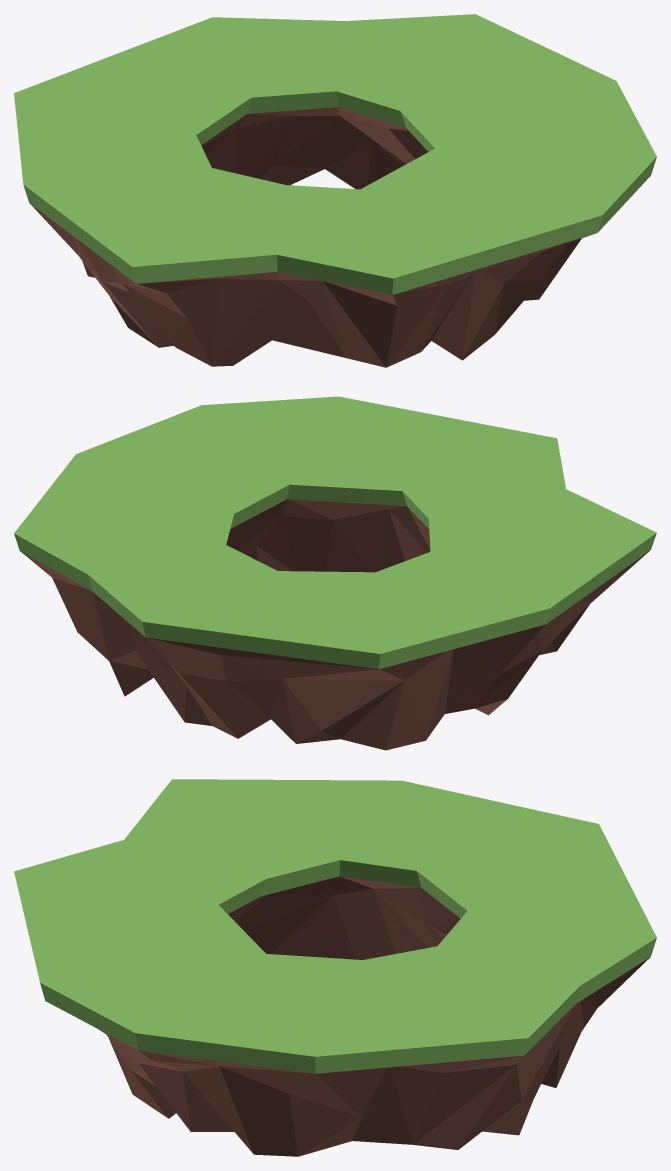
The model's file is Island7_tex.fbx.
3 renders of one model, top to bottom at view 1: azimuth 30°, elevation 25°; view 2: azimuth 150°, elevation 25°; view 3: azimuth 270°, elevation 25°, orthographic. The views are drawn at different scales.
Visible parts, largest first — view 1: Island7_tex; view 2: Island7_tex; view 3: Island7_tex.
Boxes of the visible parts, left/top/right/bottom form: Island7_tex: left=14, top=14, right=656, bottom=367; Island7_tex: left=14, top=396, right=656, bottom=750; Island7_tex: left=14, top=779, right=656, bottom=1156.
Size of the model in its own units: 5.23 by 1.4 by 5.12.
